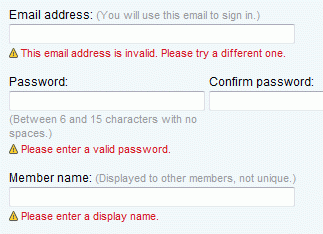error_message: (20, 47, 285, 58), (21, 144, 171, 155), (21, 211, 158, 221)
